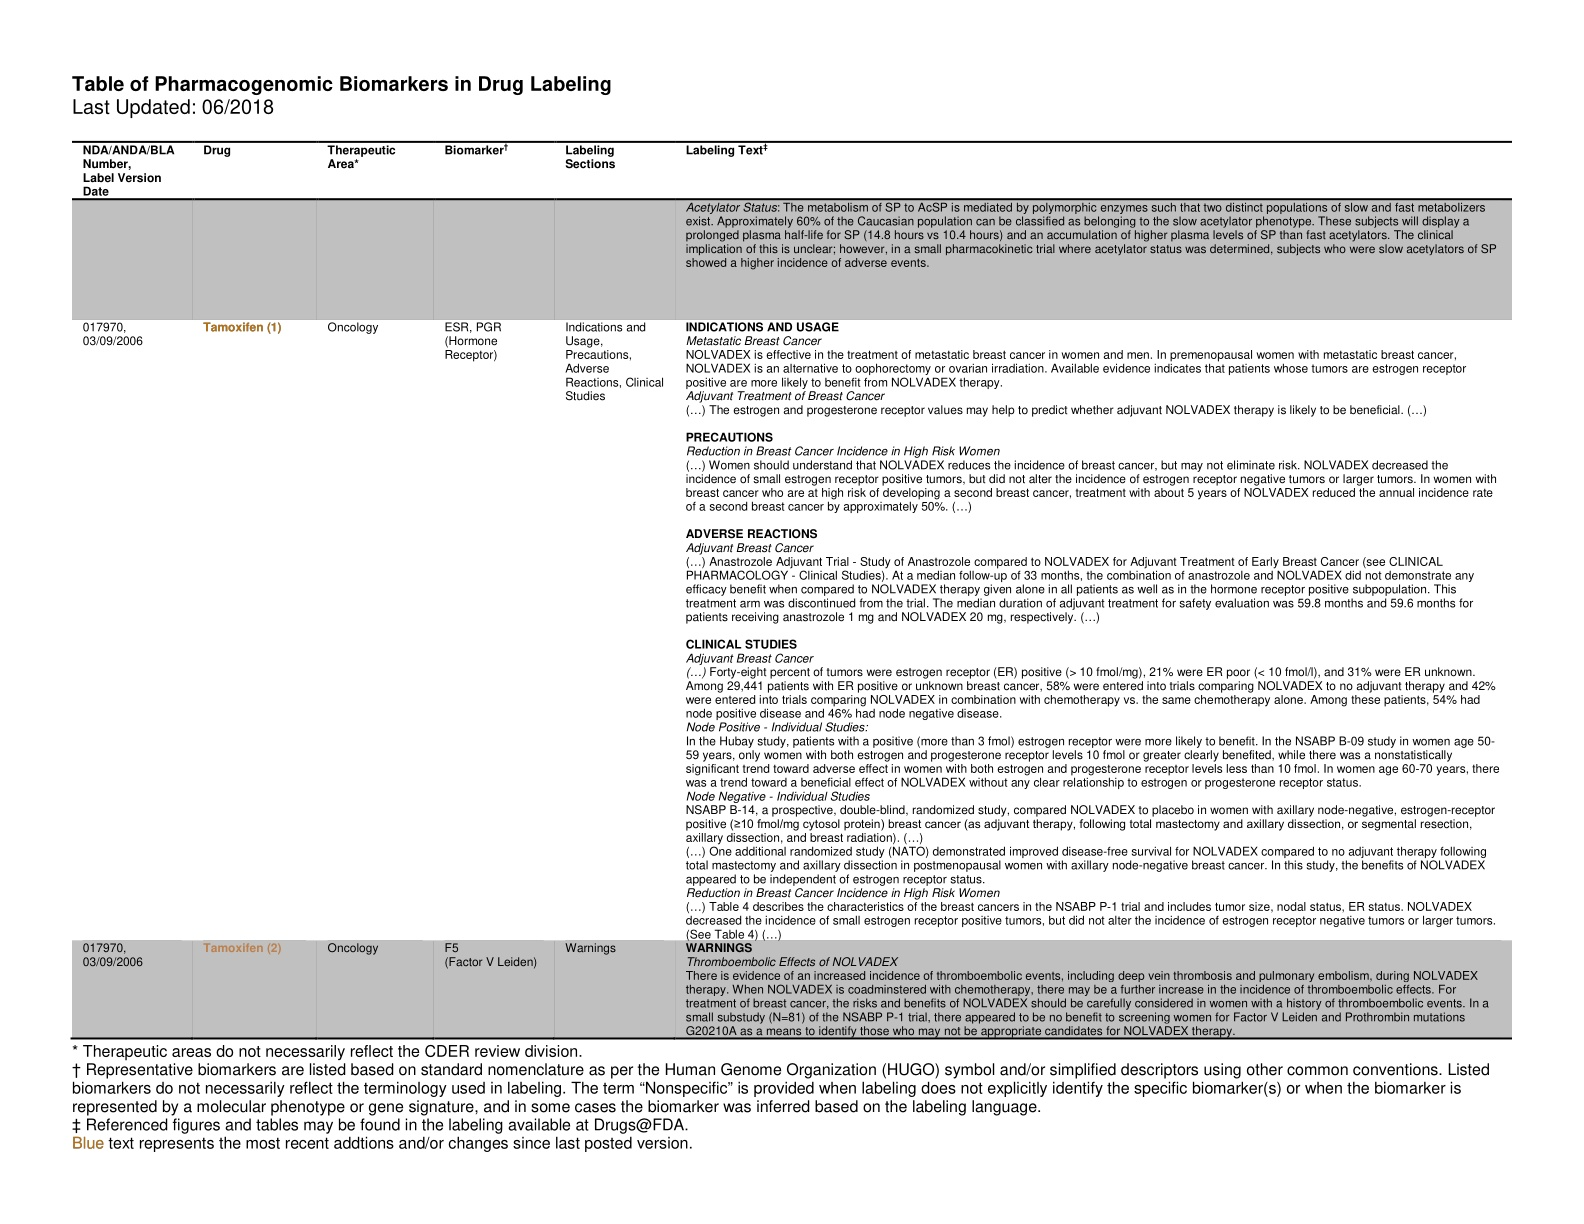partial_lined_merged_cells: (69, 139, 1513, 1040)
